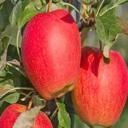apple: (0, 104, 53, 128)
